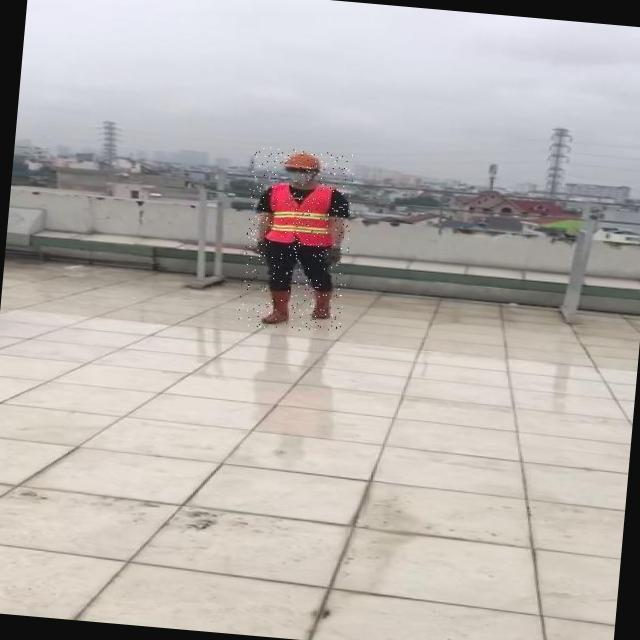boots: (255, 286, 292, 326), (306, 287, 338, 320)
gloves: (324, 240, 346, 272)
helmet: (282, 149, 324, 172)
vest: (262, 182, 334, 248)
